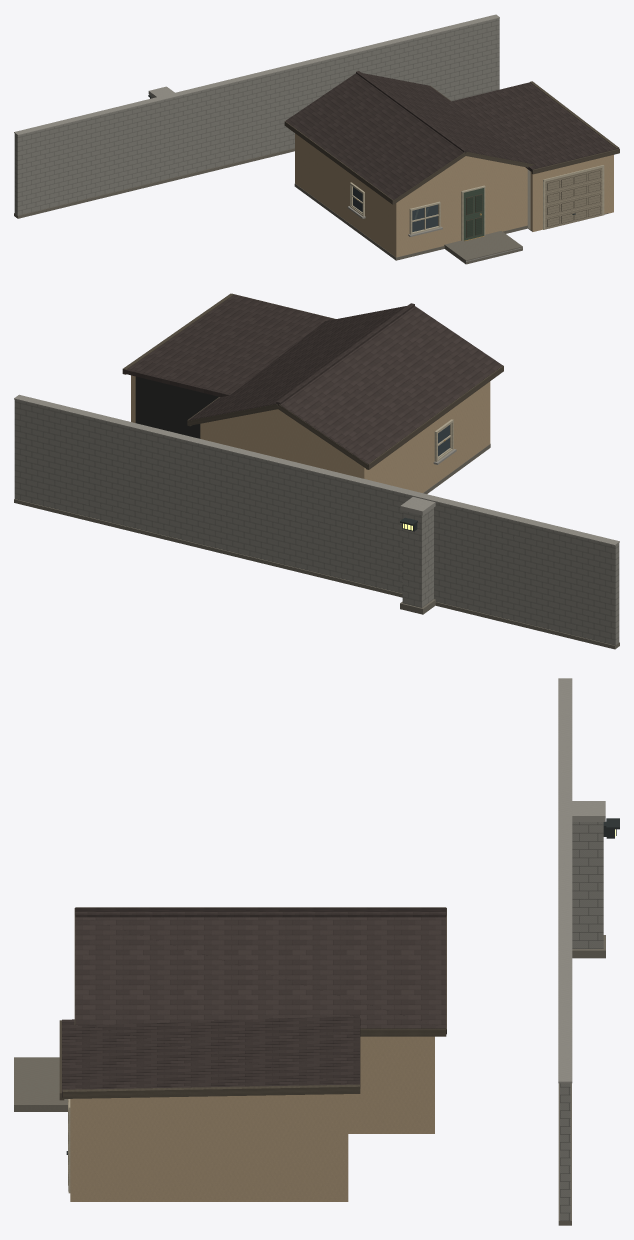
File: House_Exterior.glb
3 renders of one model, top to bottom at view 1: azimuth 30°, elevation 25°; view 2: azimuth 150°, elevation 25°; view 3: azimuth 270°, elevation 25°, orthographic. The views are drawn at different scales.
Visible parts, largest first — view 1: Concrete_Blockwork, House_Roof_Shingles_-1, Garage_Shingle_Roof, House_Roof_Shingles_1, Left_Stucco_0, Front_Stucco_5, Wall_Coping, Porch_Slab, Left_Stucco_1, Front_Stucco_3, Front_Gable, Wall_Footing (+17 smaller); view 2: Concrete_Blockwork, House_Roof_Shingles_-1, Garage_Shingle_Roof, House_Roof_Shingles_1, Wall_Coping, Garage_Back_Wall, Back_Stucco, Left_Stucco_0, Pillar_Core, Wall_Footing, Left_Stucco_1, Rear_Gable (+3 smaller); view 3: House_Roof_Shingles_1, Garage_Right_Wall, Garage_Shingle_Roof, Right_Stucco, Wall_Coping, Pillar_Core, Garage_Fascia_East, Porch_Slab, House_Roof_Ridge_Cap, House_Roof_Shingles_-1, Concrete_Blockwork, Back_Stucco (+1 smaller).
Boxes of the visible parts, x1,y1,x2,y2 form: Concrete_Blockwork: [14, 18, 499, 215]; House_Roof_Shingles_-1: [286, 73, 465, 199]; Garage_Shingle_Roof: [447, 82, 619, 171]; House_Roof_Shingles_1: [362, 73, 535, 164]; Left_Stucco_0: [295, 133, 351, 224]; Front_Stucco_5: [483, 166, 527, 234]; Wall_Coping: [14, 14, 499, 135]; Porch_Slab: [444, 231, 522, 264]; Left_Stucco_1: [364, 184, 393, 255]; Front_Stucco_3: [439, 180, 462, 246]; Front_Gable: [412, 156, 519, 192]; Wall_Footing: [14, 148, 294, 218]; Concrete_Blockwork: [14, 399, 619, 645]; House_Roof_Shingles_-1: [278, 306, 502, 463]; Garage_Shingle_Roof: [123, 294, 334, 396]; House_Roof_Shingles_1: [188, 306, 406, 420]; Wall_Coping: [14, 394, 619, 545]; Garage_Back_Wall: [135, 376, 218, 438]; Back_Stucco: [200, 422, 359, 477]; Left_Stucco_0: [359, 422, 435, 492]; Pillar_Core: [402, 508, 433, 607]; Wall_Footing: [14, 499, 619, 649]; Left_Stucco_1: [451, 383, 487, 472]; Rear_Gable: [210, 409, 345, 455]; House_Roof_Shingles_1: [75, 917, 446, 1028]; Garage_Right_Wall: [70, 1094, 348, 1201]; Garage_Shingle_Roof: [62, 1015, 360, 1097]; Right_Stucco: [348, 1036, 427, 1133]; Wall_Coping: [558, 678, 572, 1083]; Pillar_Core: [572, 822, 603, 948]; Garage_Fascia_East: [62, 1084, 360, 1098]; Porch_Slab: [14, 1057, 67, 1111]; House_Roof_Ridge_Cap: [75, 912, 446, 917]; House_Roof_Shingles_-1: [75, 907, 446, 911]; Concrete_Blockwork: [560, 1083, 570, 1220]; Back_Stucco: [427, 1036, 434, 1133].
Size of what is drawn, in the model's own units: 22 by 4.21 by 13.96.
Materials: 17 (11 with a texture image).
